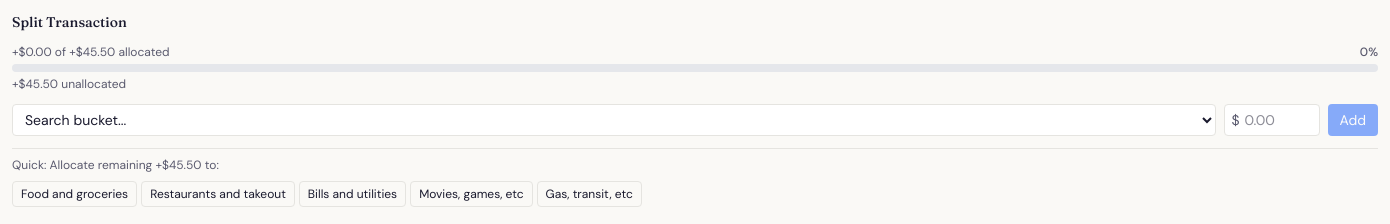
Test: SplitTransaction › quick allocate › allocates remaining to bucket when quick button clicked
Click the button "Food and groceries".
click(75, 194)  # box [12,181,137,207]
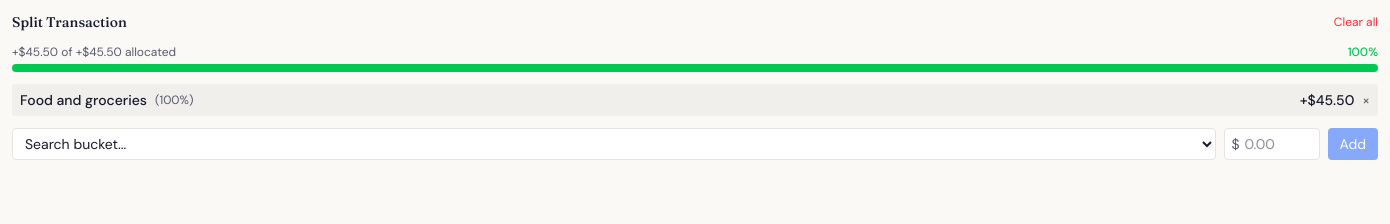
Check: the text "100%" is shown, box [1348,44,1378,60]
